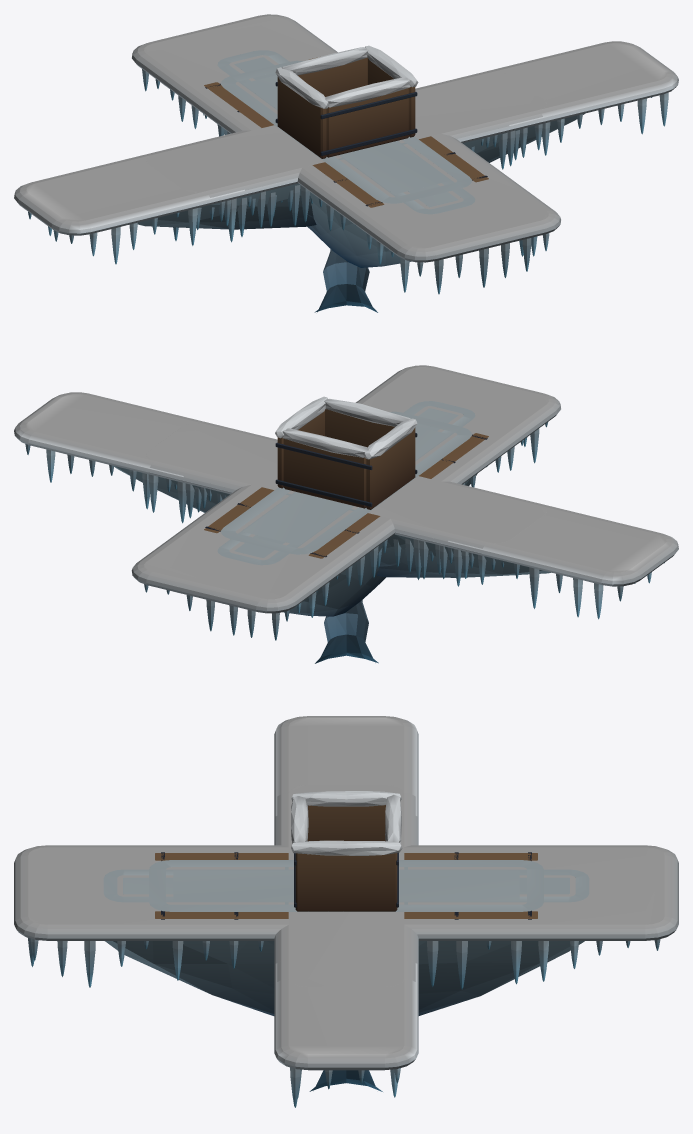
File: glacier-5-C7n66DW6.glb
3 renders of one model, top to bottom at view 1: azimuth 30°, elevation 25°; view 2: azimuth 150°, elevation 25°; view 3: azimuth 270°, elevation 25°, orthographic. The views are drawn at different scales.
Parts seen in each view (by area): view 1: block_9x2x29#0, block_36x2x6#0, block_22x2x6#1, hopper_4x3#0, block_6x2x18_ice#0, block_4x20x22_ice#0, belt_7x1.5x17x0#0, support_0_square#0, block_18x2x6#1; view 2: block_9x2x29#0, block_36x2x6#0, block_22x2x6#1, hopper_4x3#0, block_6x2x18_ice#0, block_4x20x22_ice#0, belt_7x1.5x17x0#0, support_0_square#0, block_18x2x6#1; view 3: block_9x2x29#0, block_36x2x6#0, block_6x2x18_ice#0, hopper_4x3#0, block_22x2x6#1, block_4x20x22_ice#0, belt_7x1.5x17x0#0, block_18x2x6#1, support_0_square#0.
Boxes of the visible parts, <box> form: block_9x2x29#0: <box>132,14,560,294</box>; block_36x2x6#0: <box>14,41,678,264</box>; block_22x2x6#1: <box>146,71,550,245</box>; hopper_4x3#0: <box>275,45,418,158</box>; block_6x2x18_ice#0: <box>221,60,471,203</box>; block_4x20x22_ice#0: <box>217,50,475,214</box>; belt_7x1.5x17x0#0: <box>203,57,488,207</box>; support_0_square#0: <box>314,248,377,312</box>; block_18x2x6#1: <box>186,80,515,226</box>; block_9x2x29#0: <box>131,365,560,640</box>; block_36x2x6#0: <box>14,392,678,619</box>; block_22x2x6#1: <box>142,422,546,586</box>; hopper_4x3#0: <box>275,396,417,509</box>; block_6x2x18_ice#0: <box>221,411,471,554</box>; block_4x20x22_ice#0: <box>217,401,475,565</box>; belt_7x1.5x17x0#0: <box>204,433,488,591</box>; support_0_square#0: <box>315,599,378,663</box>; block_18x2x6#1: <box>177,431,506,578</box>; block_9x2x29#0: <box>14,845,678,1015</box>; block_36x2x6#0: <box>274,716,418,1107</box>; block_6x2x18_ice#0: <box>149,860,543,911</box>; hopper_4x3#0: <box>291,791,402,911</box>; block_22x2x6#1: <box>277,785,415,986</box>; block_4x20x22_ice#0: <box>103,869,589,902</box>; belt_7x1.5x17x0#0: <box>155,852,537,919</box>; block_18x2x6#1: <box>275,813,417,963</box>; support_0_square#0: <box>309,1070,382,1091</box>.
Bounding box in the file's own units: 36.36 × 13.93 × 29.36.
